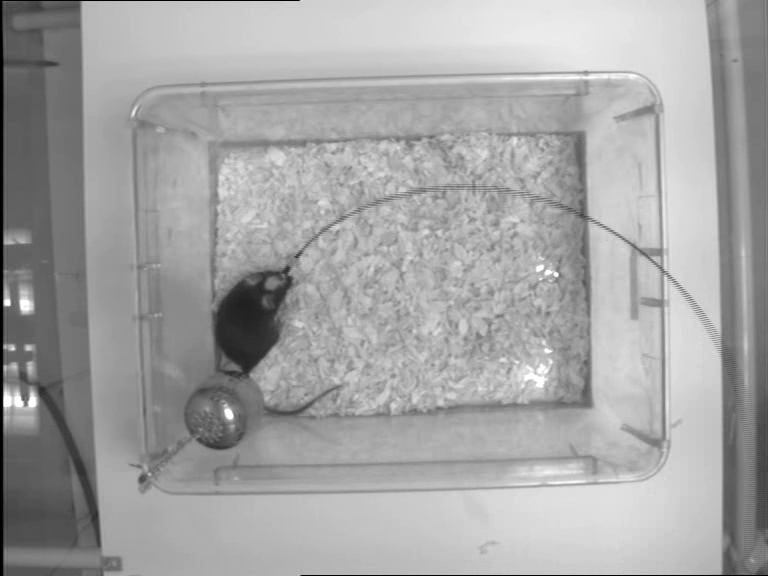mice: (206, 264, 343, 416)
